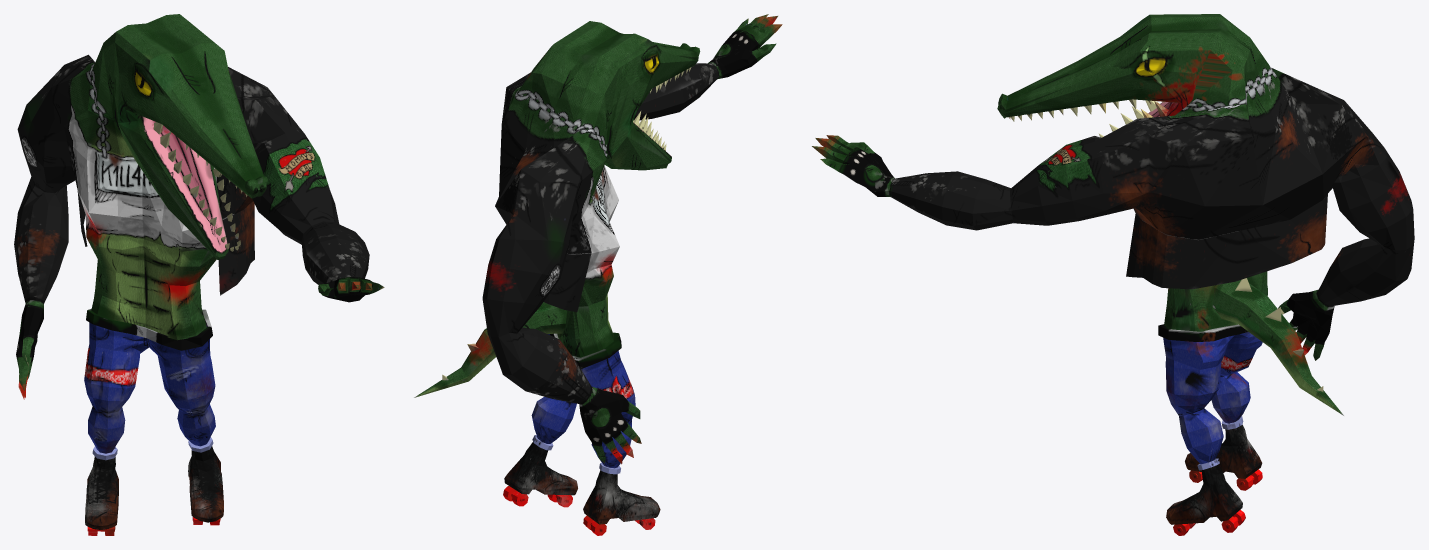
File: cocodrilaBonesSelect_000032.obj
3 renders of one model, left to right at view 1: azimuth 30°, elevation 25°; view 2: azimuth 150°, elevation 25°; view 3: azimuth 270°, elevation 25°, orthographic. The views are drawn at different scales.
Visible parts, largest first — view 1: Crocodile.002_Cylinder.002; view 2: Crocodile.002_Cylinder.002; view 3: Crocodile.002_Cylinder.002.
Part boxes in pixels (x1=…): Crocodile.002_Cylinder.002: x1=14, y1=14, x2=384, y2=535; Crocodile.002_Cylinder.002: x1=414, y1=14, x2=782, y2=535; Crocodile.002_Cylinder.002: x1=812, y1=14, x2=1414, y2=535.
Bounding box in the file's own units: 2.9 × 6.67 × 7.47.
